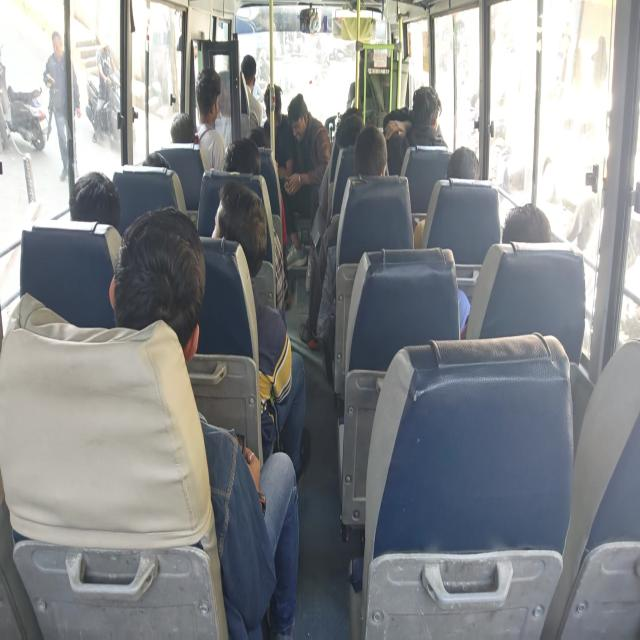person: (121, 222, 210, 337), (212, 182, 264, 264), (413, 77, 451, 158), (71, 177, 110, 242), (492, 200, 538, 252), (352, 140, 392, 180), (444, 156, 490, 190), (261, 75, 288, 127), (196, 68, 222, 118), (224, 140, 258, 178), (168, 106, 196, 146), (241, 47, 265, 91), (137, 146, 166, 180), (359, 40, 383, 81), (289, 99, 311, 142), (338, 108, 367, 136), (249, 122, 276, 150)
